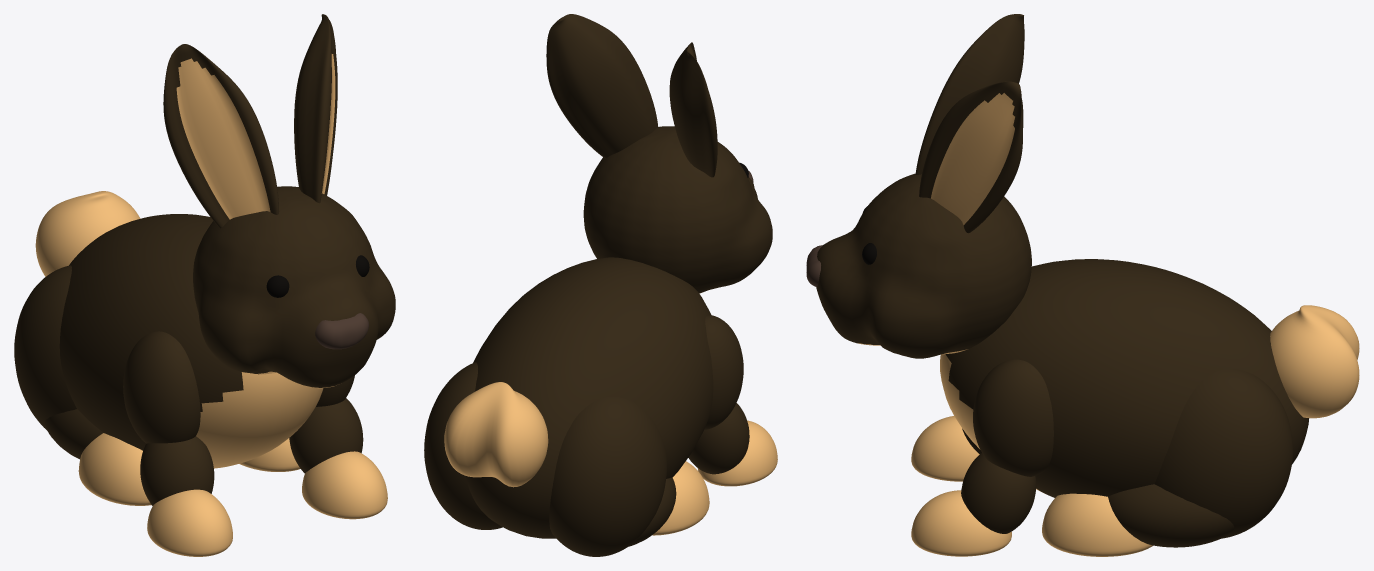
The model's file is BunnyTEXT.obj.
3 renders of one model, left to right at view 1: azimuth 30°, elevation 25°; view 2: azimuth 150°, elevation 25°; view 3: azimuth 270°, elevation 25°, orthographic. The views are drawn at different scales.
Parts seen in each view (by area): view 1: BunnyV2 Body, BunnyV2 Head, BunnyV2 EarL1, BunnyV2 ShoulderR, BunnyV2 HipR, BunnyV2 EarL, BunnyV2 Tail, FFootL1 BunnyV2, BunnyV2 FFootL, BunnyV2 FLegR1, BunnyV2 BFootR, BunnyV2 FLegR (+4 smaller); view 2: BunnyV2 Body, BunnyV2 Head, BunnyV2 HipR, BunnyV2 EarL, BunnyV2 Tail, BunnyV2 HipL, BunnyV2 EarL1, BunnyV2 ShoulderR, BunnyV2 FLegR1, FFootL1 BunnyV2, BunnyV2 BFootR, BunnyV2 BLegR; view 3: BunnyV2 Body, BunnyV2 Head, BunnyV2 HipL, BunnyV2 EarL, BunnyV2 Tail, BunnyV2 ShoulderL, BunnyV2 BLegL, BunnyV2 EarL1, BunnyV2 BFootL, BunnyV2 FFootL, BunnyV2 FLegR, FFootL1 BunnyV2.
Part boxes in pixels (box(x1,y1,x2,y2)): BunnyV2 Body: box(59, 214, 323, 468); BunnyV2 Head: box(193, 186, 395, 388); BunnyV2 EarL1: box(163, 44, 278, 228); BunnyV2 ShoulderR: box(123, 331, 200, 443); BunnyV2 HipR: box(14, 265, 76, 429); BunnyV2 EarL: box(294, 14, 337, 203); BunnyV2 Tail: box(35, 191, 140, 276); FFootL1 BunnyV2: box(147, 489, 232, 556); BunnyV2 FFootL: box(302, 451, 387, 519); BunnyV2 FLegR1: box(140, 436, 214, 505); BunnyV2 BFootR: box(78, 433, 151, 505); BunnyV2 FLegR: box(289, 398, 363, 473); BunnyV2 Body: box(465, 257, 713, 538); BunnyV2 Head: box(583, 126, 772, 293); BunnyV2 HipR: box(549, 397, 666, 556); BunnyV2 EarL: box(546, 14, 658, 158); BunnyV2 Tail: box(444, 382, 548, 487); BunnyV2 HipL: box(424, 362, 502, 529); BunnyV2 EarL1: box(669, 42, 717, 177); BunnyV2 ShoulderR: box(704, 315, 743, 429); BunnyV2 FLegR1: box(688, 403, 749, 474); FFootL1 BunnyV2: box(697, 420, 777, 486); BunnyV2 BFootR: box(652, 461, 709, 535); BunnyV2 BLegR: box(629, 477, 676, 546); BunnyV2 Body: box(940, 259, 1308, 497); BunnyV2 Head: box(816, 173, 1031, 358); BunnyV2 HipL: box(1155, 369, 1293, 538); BunnyV2 EarL: box(919, 81, 1023, 233); BunnyV2 Tail: box(1270, 305, 1359, 418); BunnyV2 ShoulderL: box(973, 359, 1053, 476); BunnyV2 BLegL: box(1108, 484, 1234, 547); BunnyV2 EarL1: box(915, 14, 1024, 174); BunnyV2 BFootL: box(1042, 493, 1153, 556); BunnyV2 FFootL: box(911, 490, 1011, 556); BunnyV2 FLegR: box(961, 453, 1036, 533); FFootL1 BunnyV2: box(911, 416, 979, 481).
Bounding box in the file's own units: 3.99 × 7.61 × 8.17.
